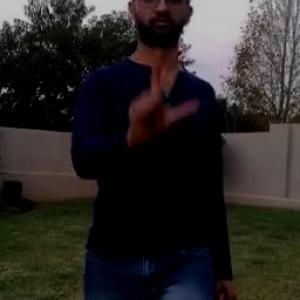land_hand: (114, 53, 199, 152)
